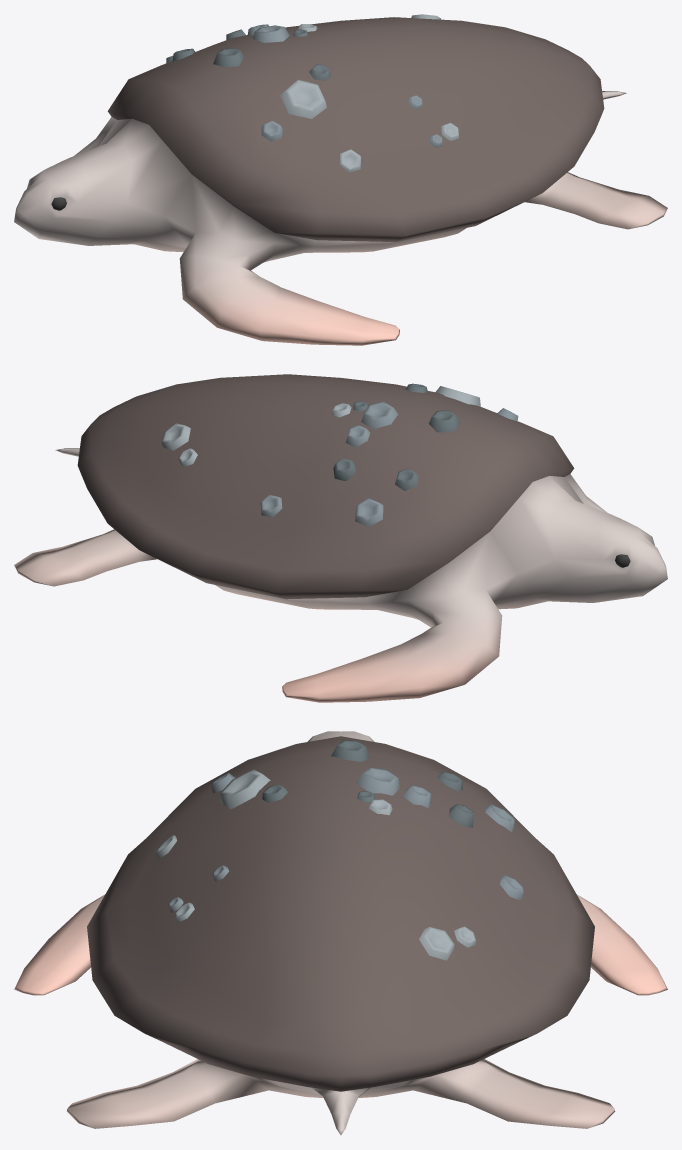
File: Turtle_001.glb
The picture shows the model from 3 angles, top to bottom: view 1: azimuth 30°, elevation 25°; view 2: azimuth 150°, elevation 25°; view 3: azimuth 270°, elevation 25°; orthographic projection. The views are drawn at different scales.
Parts seen in each view (by area): view 1: Turtle_001; view 2: Turtle_001; view 3: Turtle_001.
Part boxes in pixels (<box>): Turtle_001: <box>14,14,667,345</box>; Turtle_001: <box>14,374,667,702</box>; Turtle_001: <box>14,731,667,1134</box>.
Bounding box in the file's own units: 1.26 × 0.3871 × 0.9695.
1 material, 1 textured.
